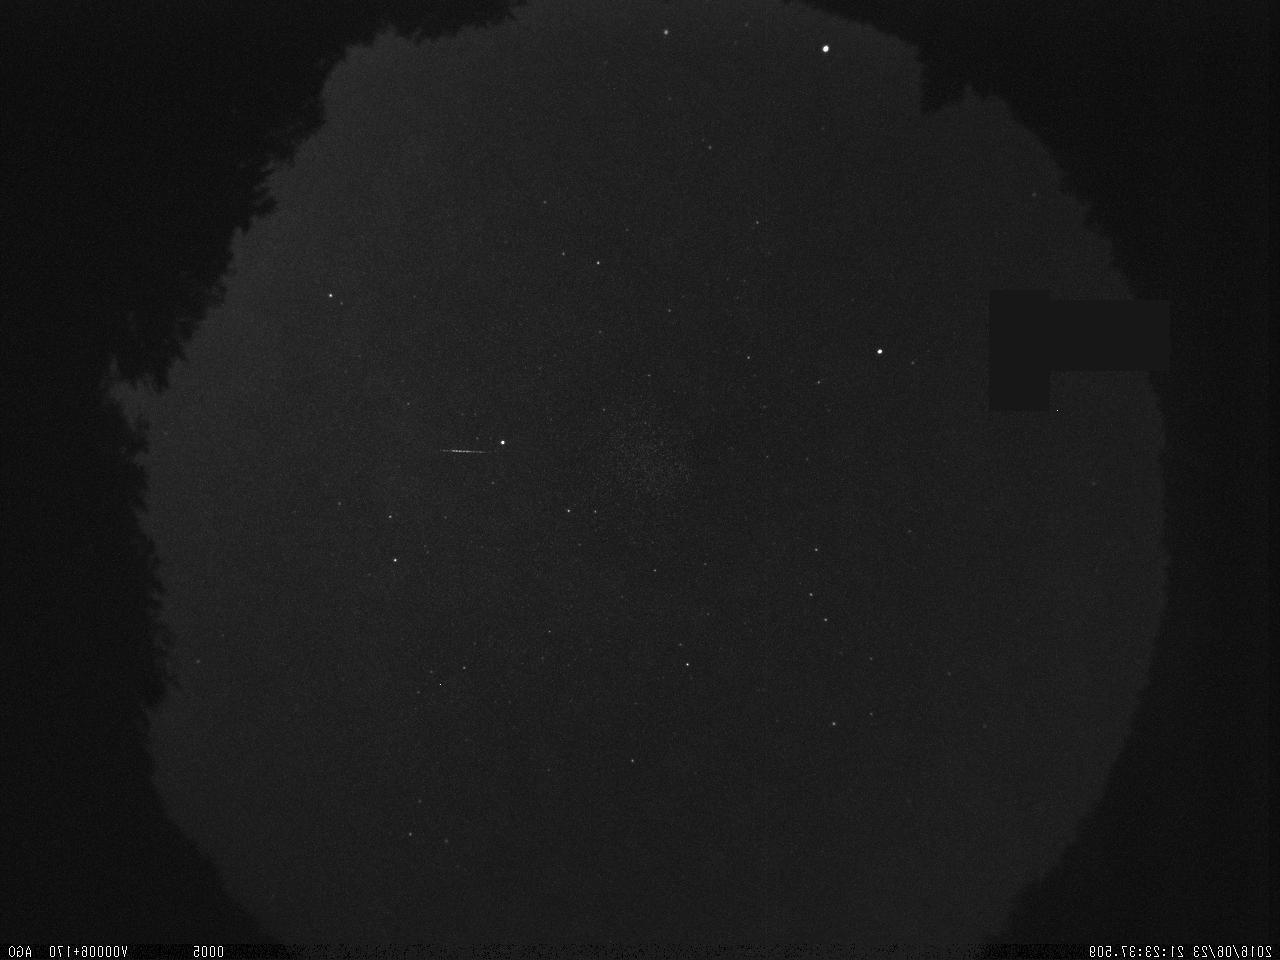meteor: (413, 429, 496, 486)
